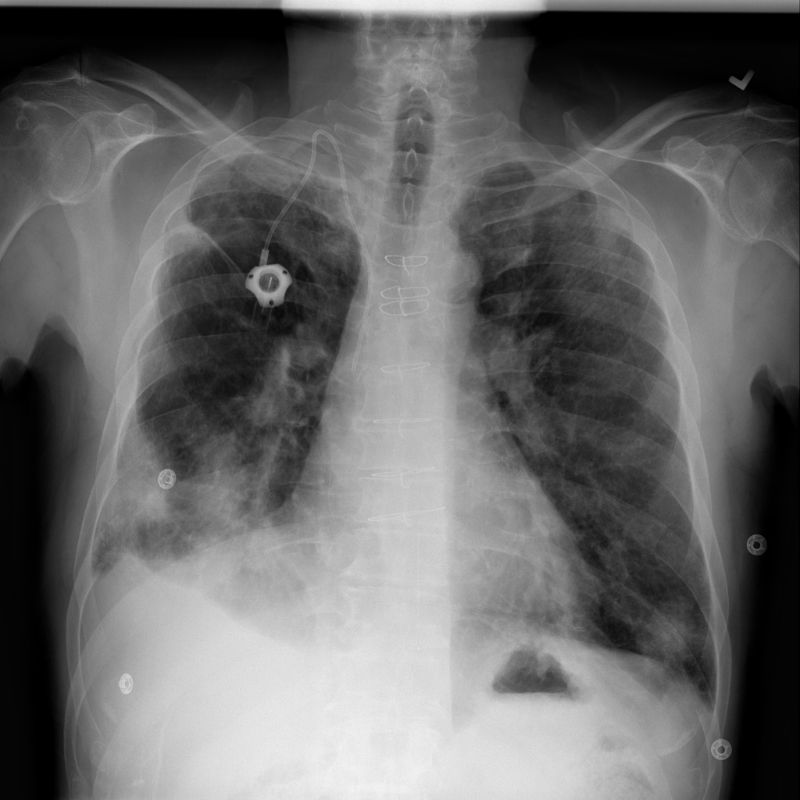PLEURAL EFFUSION: (92, 501, 192, 647)
